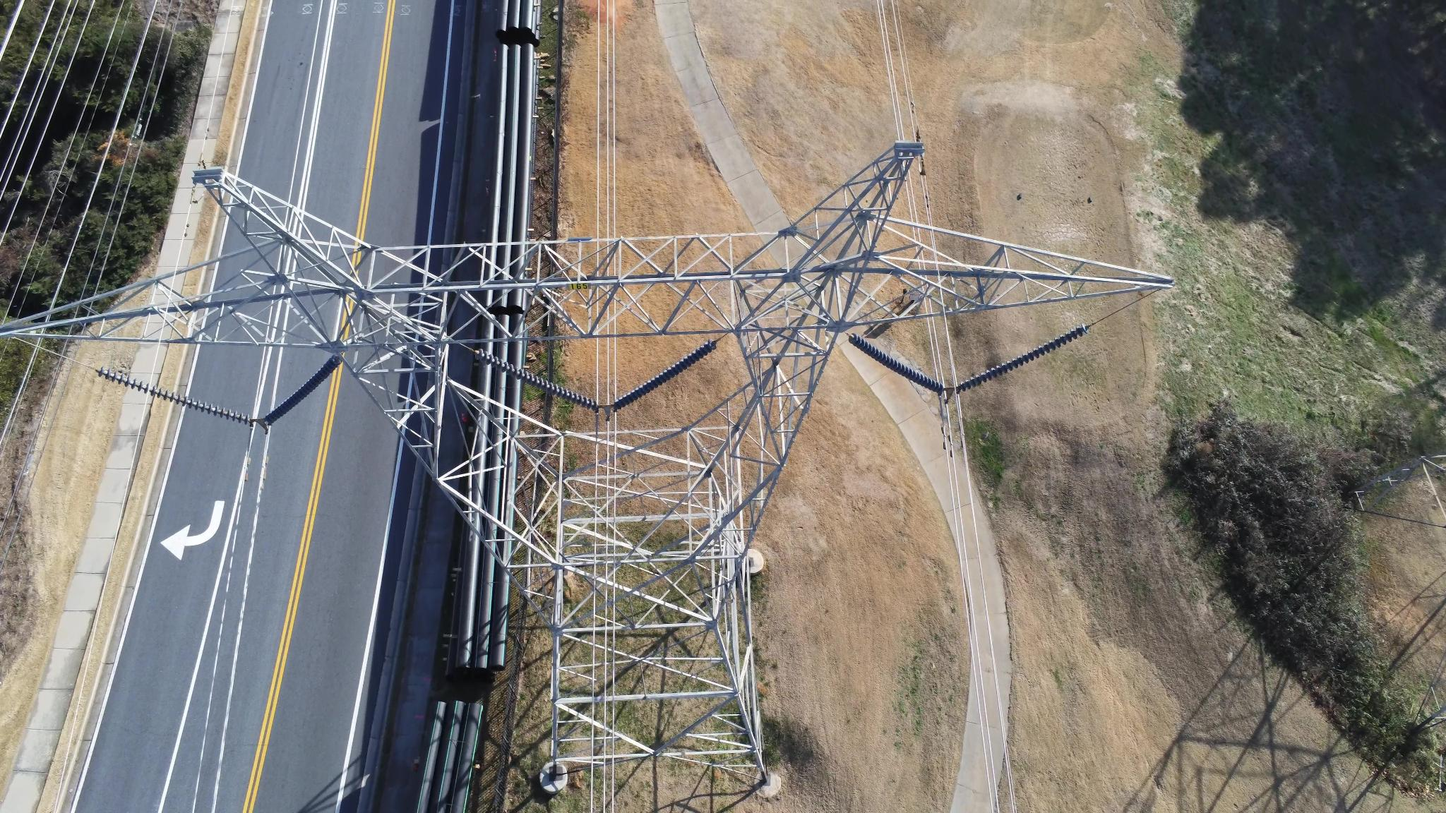tower: (0, 141, 1179, 813)
